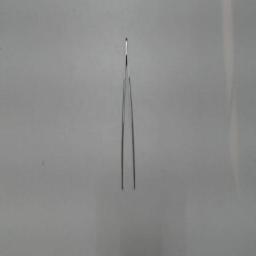Gillies Toothed Dissector: (119, 24, 139, 196)
